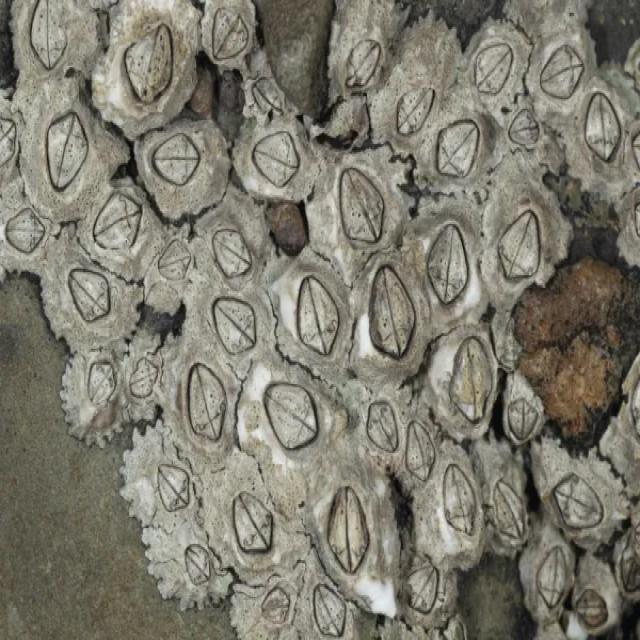barnacles: (94, 7, 198, 133), (308, 473, 402, 607), (245, 366, 342, 476), (268, 257, 352, 382), (535, 433, 625, 544), (480, 187, 562, 307), (314, 153, 406, 255), (354, 257, 427, 382), (34, 102, 110, 217), (421, 452, 489, 573), (214, 463, 289, 569), (169, 350, 240, 458), (136, 141, 235, 218), (416, 213, 484, 324), (47, 266, 136, 350), (386, 44, 448, 160), (433, 331, 498, 436), (11, 0, 93, 83), (428, 115, 501, 206), (578, 77, 634, 195), (475, 450, 532, 563), (327, 9, 396, 101), (232, 135, 320, 206), (528, 16, 586, 122), (460, 23, 530, 109), (87, 184, 157, 268), (142, 231, 204, 324), (159, 525, 228, 607), (136, 432, 196, 526), (198, 211, 264, 291), (199, 295, 271, 367), (352, 382, 406, 471), (64, 358, 128, 433), (525, 535, 573, 630), (234, 568, 298, 636), (0, 206, 56, 280), (492, 104, 550, 173), (300, 581, 363, 638), (570, 562, 622, 630), (398, 408, 442, 488), (121, 348, 166, 425), (203, 14, 257, 72), (499, 388, 544, 448)
